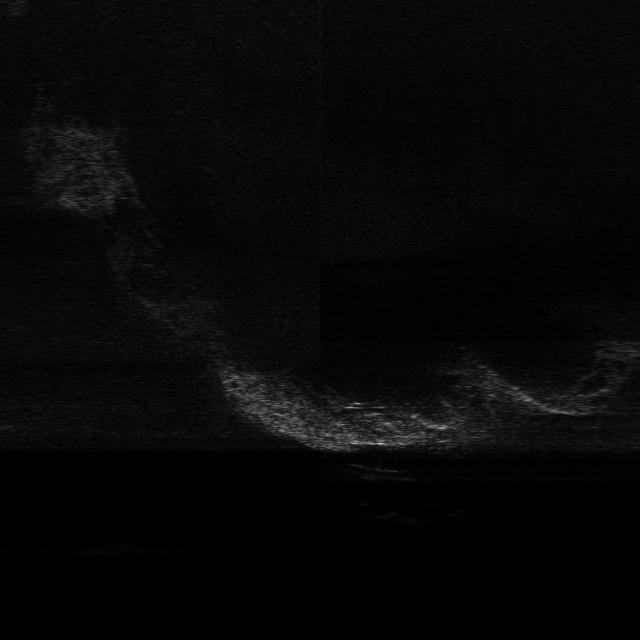plane: (343, 462, 421, 484)
